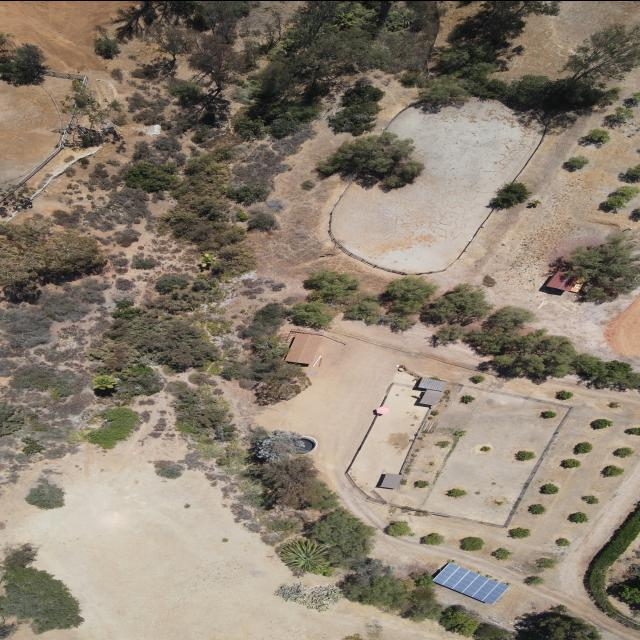solar-panels: (432, 558, 510, 608)
